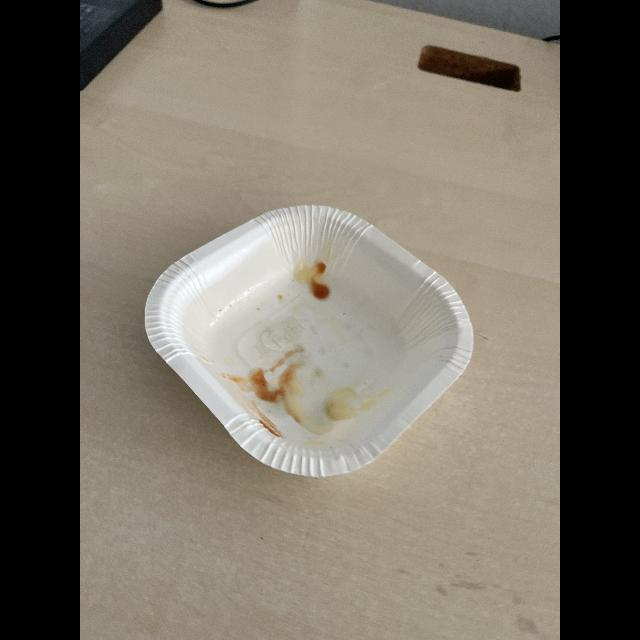cardboard_bowl: (133, 191, 499, 483)
